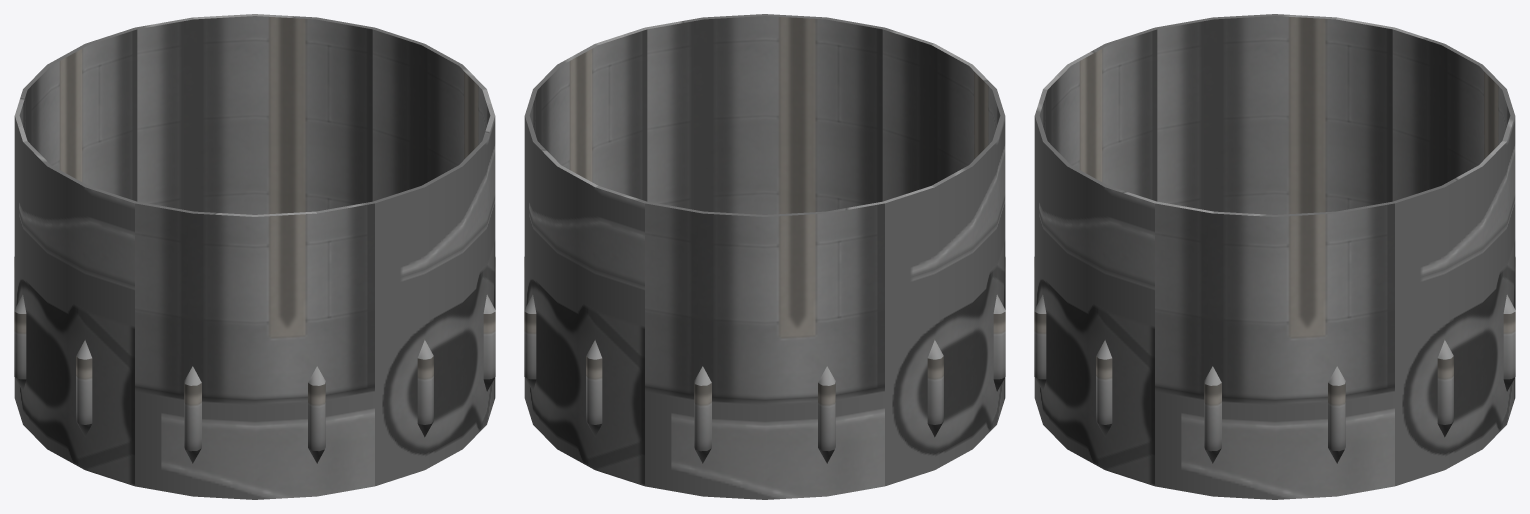
Rendered from ALV_3_Engine_1_Fairing.obj.
3 renders of one model, left to right at view 1: azimuth 30°, elevation 25°; view 2: azimuth 150°, elevation 25°; view 3: azimuth 270°, elevation 25°, orthographic.
Parts seen in each view (by area): view 1: ALV_3_Engine_1_Fairing; view 2: ALV_3_Engine_1_Fairing; view 3: ALV_3_Engine_1_Fairing.
Part boxes in pixels (x1,y1,x2,y2): ALV_3_Engine_1_Fairing: (14, 14, 495, 499); ALV_3_Engine_1_Fairing: (524, 14, 1005, 499); ALV_3_Engine_1_Fairing: (1034, 14, 1515, 499).
Size of the model in its own units: 2.51 by 1.62 by 2.51.
